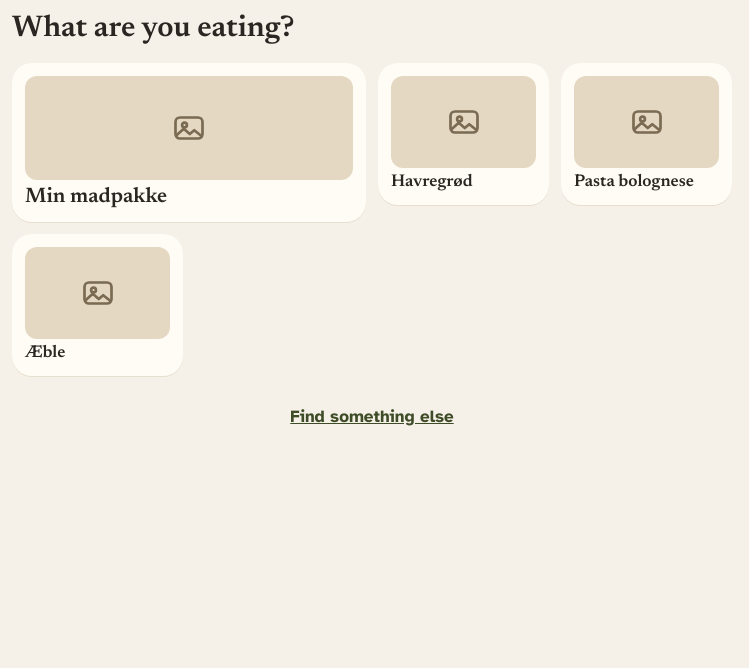
Test: Hvad spiser du? (Log-Simpel, simpleMode) › is the same picker without the simple sizes outside simpleMode, and speaks English
Check: the heading reads "What are you eating?", box x1=12 y1=14 x2=294 y2=44
Click the button "Æble": x=98, y=305 x1=12 y1=234 x2=183 y2=376
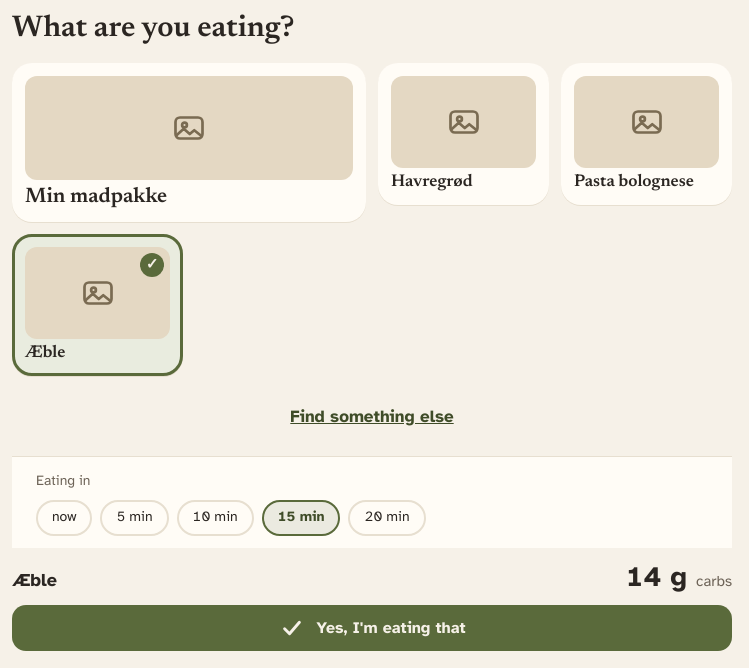
Check: the button "Yes, I'm eating that" is enabled, box x1=12 y1=605 x2=732 y2=651
